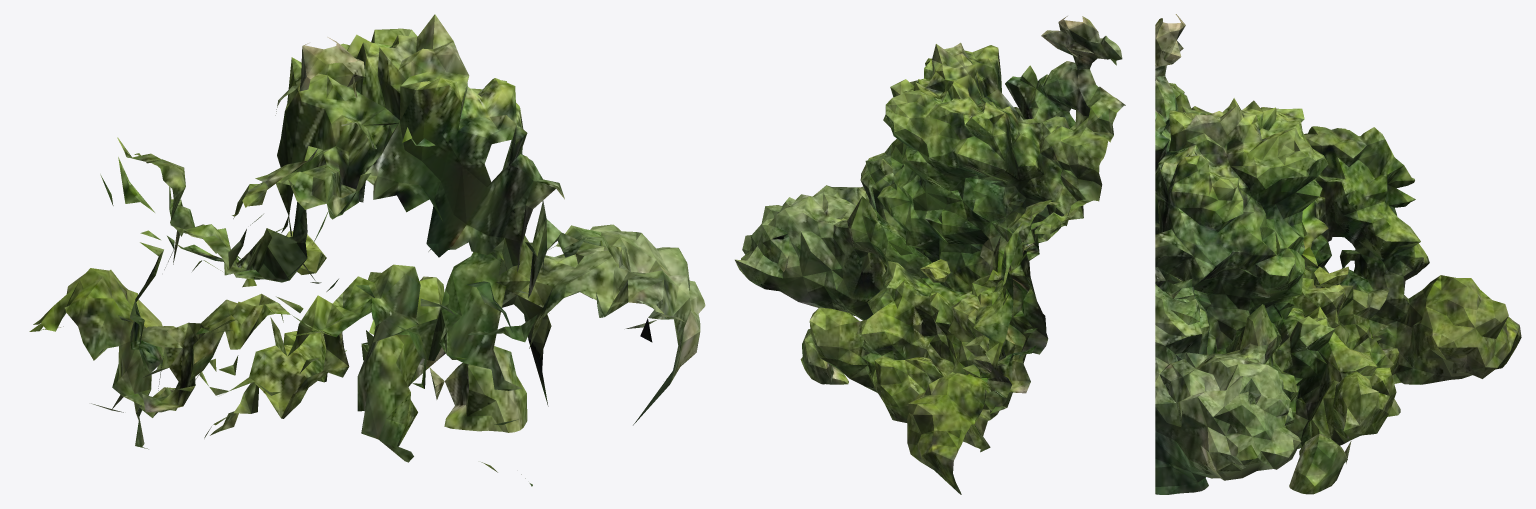
3 views of the same model, side by side, from view 1: azimuth 30°, elevation 25°; view 2: azimuth 150°, elevation 25°; view 3: azimuth 270°, elevation 25° (orthographic). The views are drawn at different scales.
Bounding box in the file's own units: 26.11 × 26.11 × 23.39.
Materials: 6 (6 with a texture image).
